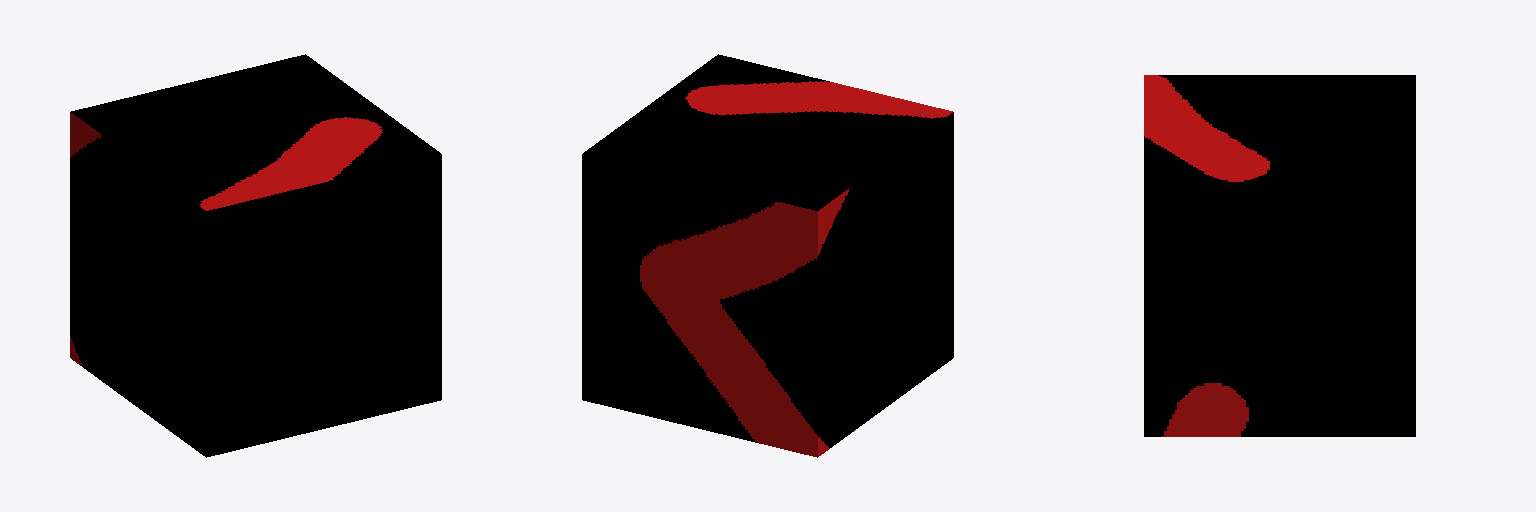
3 renders of one model, left to right at view 1: azimuth 30°, elevation 25°; view 2: azimuth 150°, elevation 25°; view 3: azimuth 270°, elevation 25°, orthographic.
Parts seen in each view (by area): view 1: Cube; view 2: Cube; view 3: Cube.
Part boxes in pixels (x1,y1,x2,y2): Cube: (70, 54, 441, 457); Cube: (582, 54, 953, 457); Cube: (1144, 75, 1415, 436).
Size of the model in its own units: 2 by 2 by 2.
Materials: 1 (1 with a texture image).